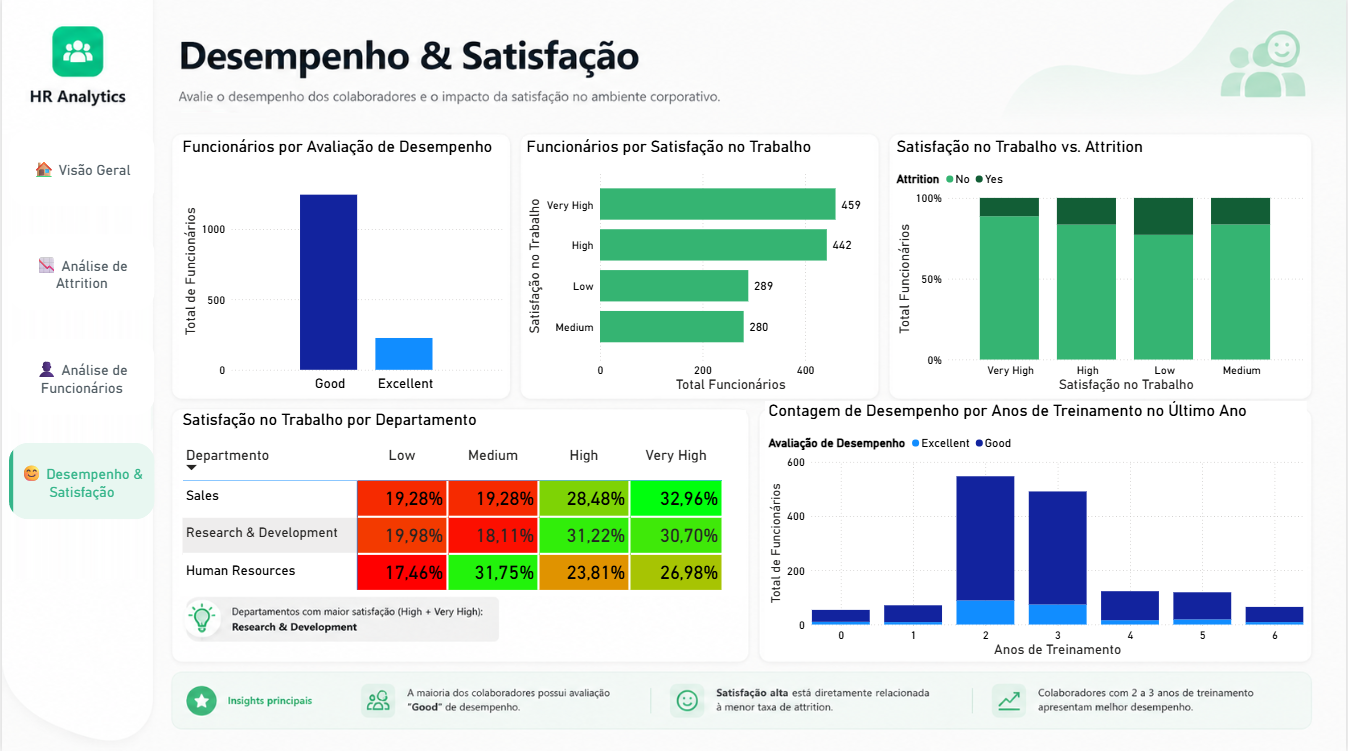

Layout of this report page (visuals, bound fields, positions):
{"tool":"powerbi","page":{"name":"😊 Desempenho & Satisfação","canvas":[1920,1080],"ordinal":3},"visuals":[{"type":"columnChart","title":"Funcionários por Avaliação de Desempenho","fields":{"Y":["Medidas.Total Funcionários"],"Category":["Human_Resources.PerformanceRating"]},"box":[252.9,200,468.6,368.6],"z":0},{"type":"barChart","title":"Funcionários por Satisfação no Trabalho","fields":{"Category":["Human_Resources.JobSatisfaction"],"Y":["Medidas.Total Funcionários"]},"box":[744.3,200,501.4,368.6],"z":1000},{"type":"pivotTable","title":"Satisfação no Trabalho por Departamento","fields":{"Rows":["Human_Resources.Department"],"Columns":["Human_Resources.JobSatisfaction"],"Values":["Medidas.% Funcionários por Satisfação"]},"box":[252.9,590,810,265.7],"z":2000},{"type":"hundredPercentStackedColumnChart","title":"Satisfação no Trabalho vs. Attrition","fields":{"Series":["Human_Resources.Attrition"],"Category":["Human_Resources.JobSatisfaction"],"Y":["Medidas.Total Funcionários"]},"box":[1272.9,200,591.4,368.6],"z":3000},{"type":"columnChart","title":"Contagem de Desempenho por Anos de Treinamento no Último Ano","fields":{"Category":["Human_Resources.TrainingTimesLastYear"],"Y":["CountNonNull(Human_Resources.PerformanceRating)"],"Series":["Human_Resources.PerformanceRating"]},"box":[1090,577.1,774.3,370],"z":4000},{"type":"pageNavigator","box":[10,190,208.6,558.6],"z":5000}]}

Visuals, with their boxes on the page's 1920x1080 design canvas (x1, y1, x2, y2). These are canvas units, not pixel positions in the 1348x751 screenshot, which may show the page scaled, cropped or inside an application window:
"Funcionários por Avaliação de Desempenho" columnChart: bbox(253, 200, 722, 569)
"Funcionários por Satisfação no Trabalho" barChart: bbox(744, 200, 1246, 569)
"Satisfação no Trabalho por Departamento" pivotTable: bbox(253, 590, 1063, 856)
"Satisfação no Trabalho vs. Attrition" hundredPercentStackedColumnChart: bbox(1273, 200, 1864, 569)
"Contagem de Desempenho por Anos de Treinamento no Último Ano" columnChart: bbox(1090, 577, 1864, 947)
pageNavigator: bbox(10, 190, 219, 749)
